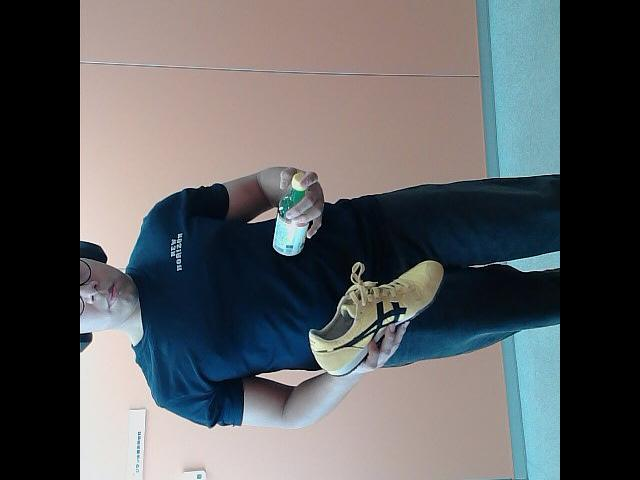Lemon_sapporo: (265, 167, 315, 257)
Shoes: (306, 258, 448, 384)
